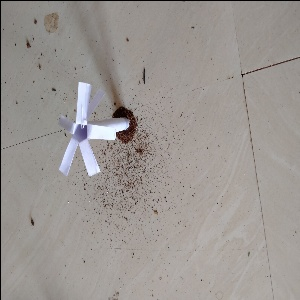weed: (49, 80, 136, 173)
